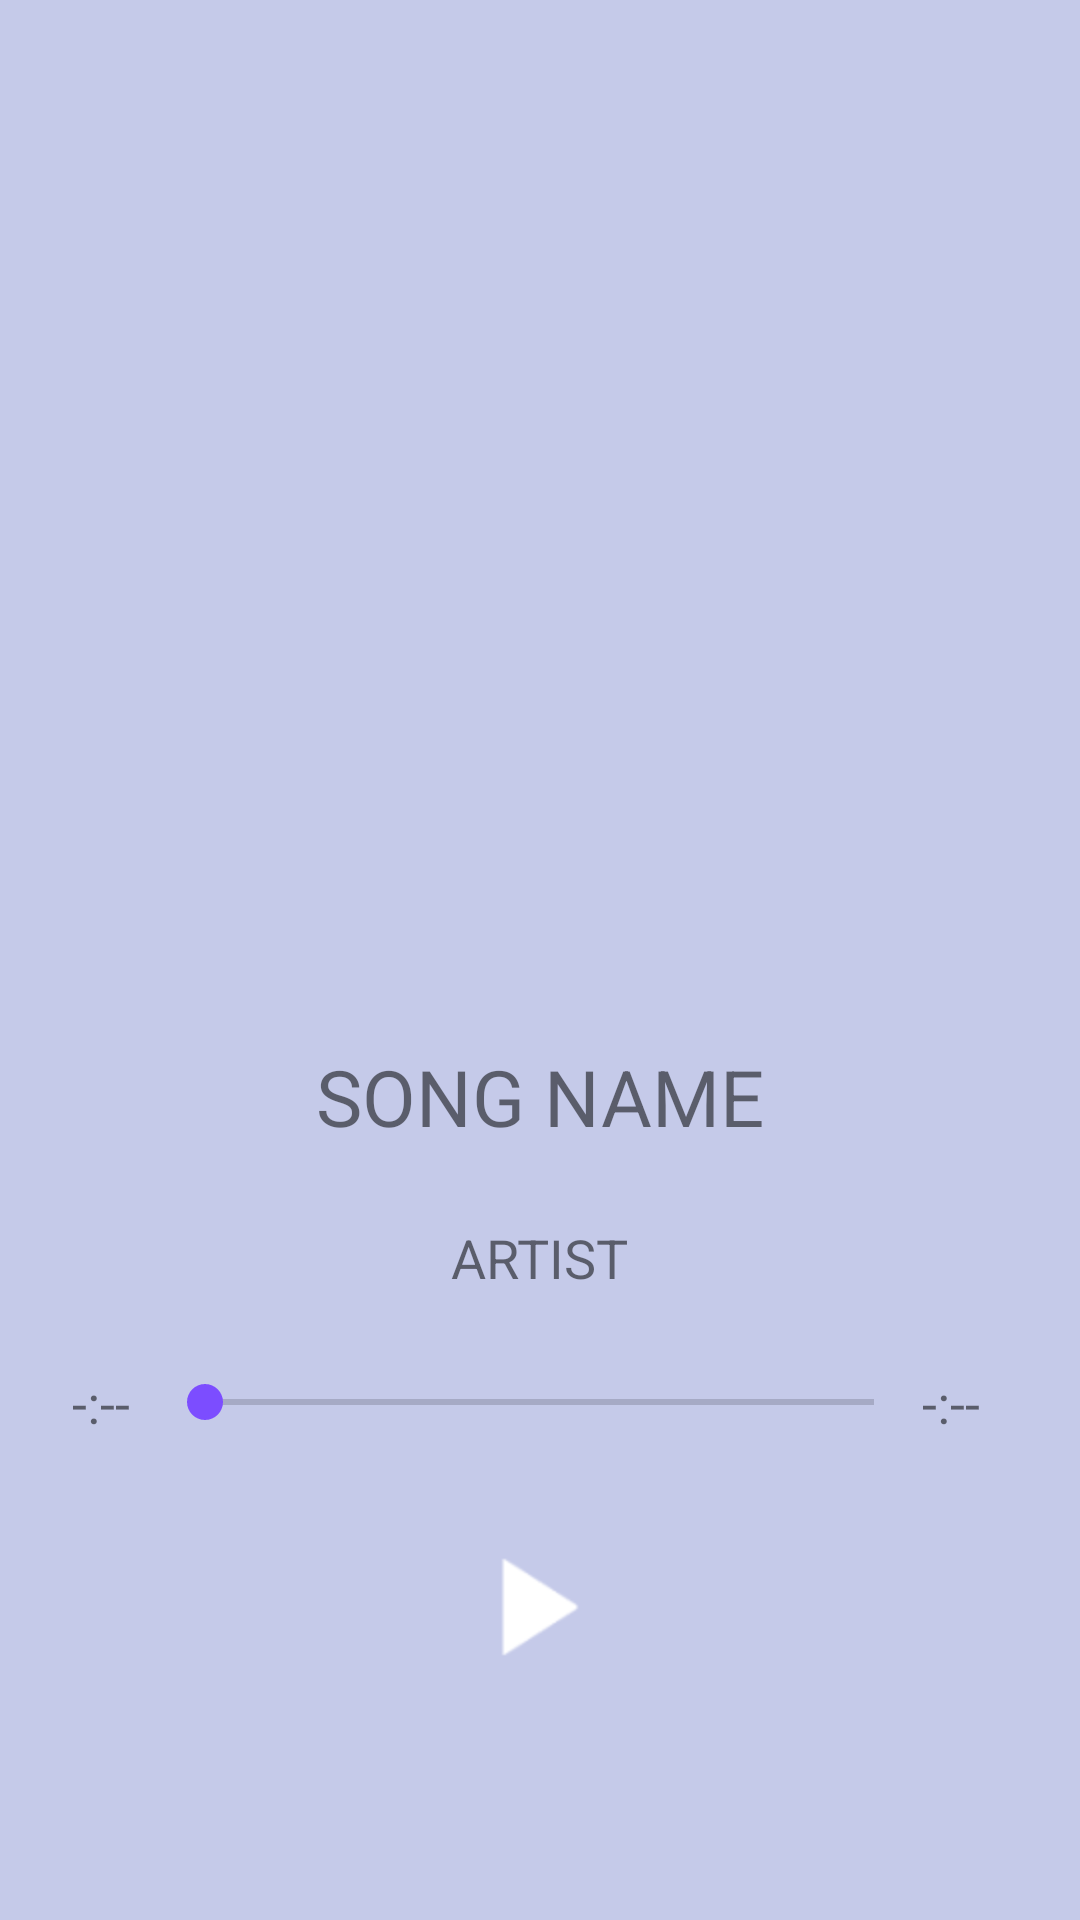

Named icons in this screenshot (1080px x 1920px) and their centers, (x=x, y=y):
Play: (x=540, y=1607)
